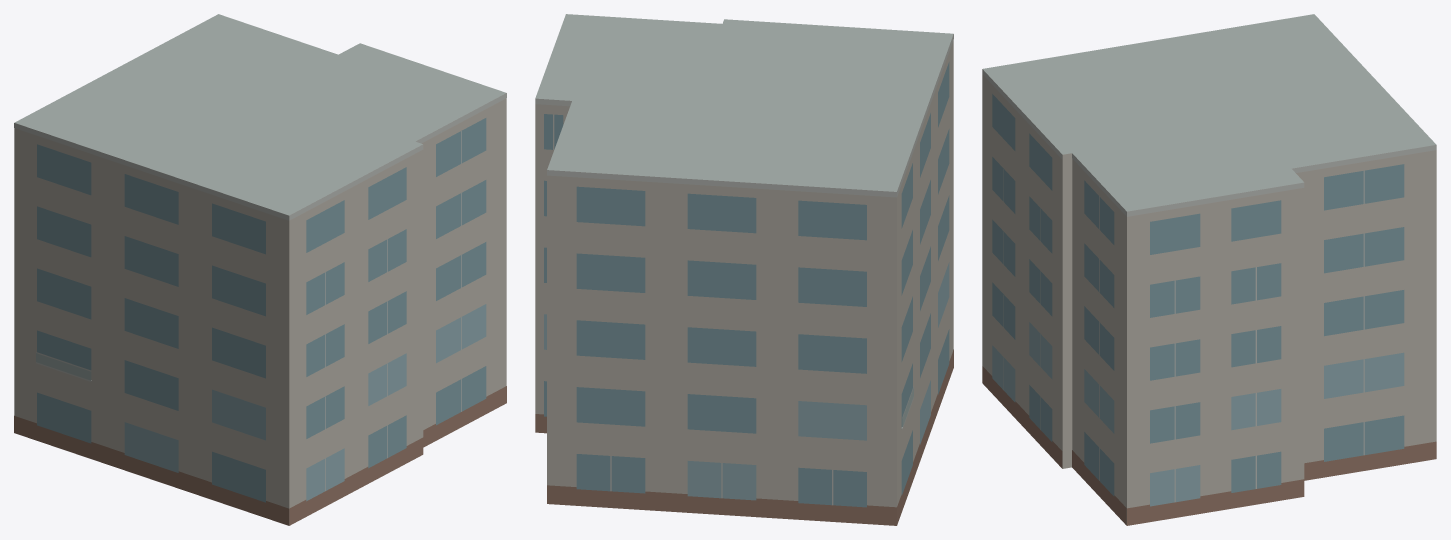
The model's file is survey-upis-32947123.glb.
3 renders of one model, left to right at view 1: azimuth 30°, elevation 25°; view 2: azimuth 150°, elevation 25°; view 3: azimuth 270°, elevation 25°, orthographic. The views are drawn at different scales.
Parts seen in each view (by area): view 1: survey-upis-32947123.tmp; view 2: survey-upis-32947123.tmp; view 3: survey-upis-32947123.tmp.
Part boxes in pixels (left/top/right/bottom): survey-upis-32947123.tmp: left=14, top=14, right=506, bottom=525; survey-upis-32947123.tmp: left=535, top=14, right=953, bottom=525; survey-upis-32947123.tmp: left=982, top=14, right=1436, bottom=525.
Bounding box in the file's own units: 19.84 × 14.7 × 19.27.
